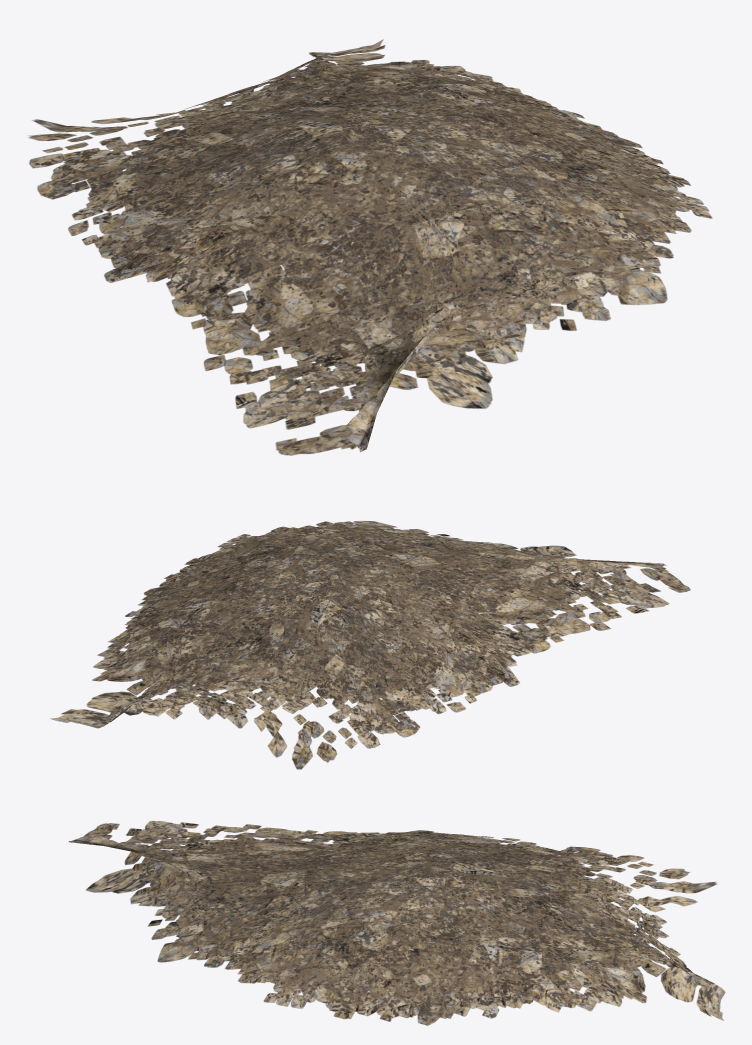
File: rubble.glb
3 views of the same model, one above another, from view 1: azimuth 30°, elevation 25°; view 2: azimuth 150°, elevation 25°; view 3: azimuth 270°, elevation 25° (orthographic). The views are drawn at different scales.
Visible parts, largest first — view 1: rubble1; view 2: rubble1; view 3: rubble1.
Part boxes in pixels (bbox=[...]): rubble1: bbox=[28, 39, 712, 455]; rubble1: bbox=[50, 521, 690, 769]; rubble1: bbox=[68, 821, 725, 1025].
Bounding box in the file's own units: 7.37 × 1.09 × 9.7.
Materials: 1 (1 with a texture image).
